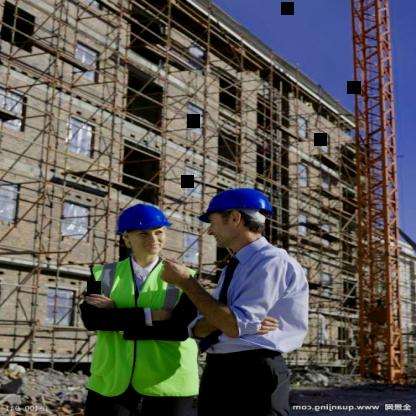helmet: (196, 180, 278, 250), (115, 196, 175, 264)
